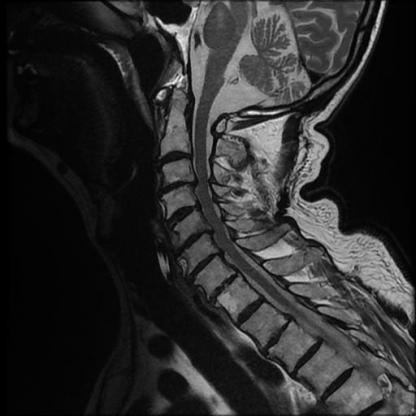Disc Bulgerotation: (170, 233, 218, 250), (182, 258, 229, 274), (165, 205, 203, 223), (160, 178, 198, 193), (159, 149, 193, 165)
Disc Protrusionrotation: (159, 149, 193, 165)
